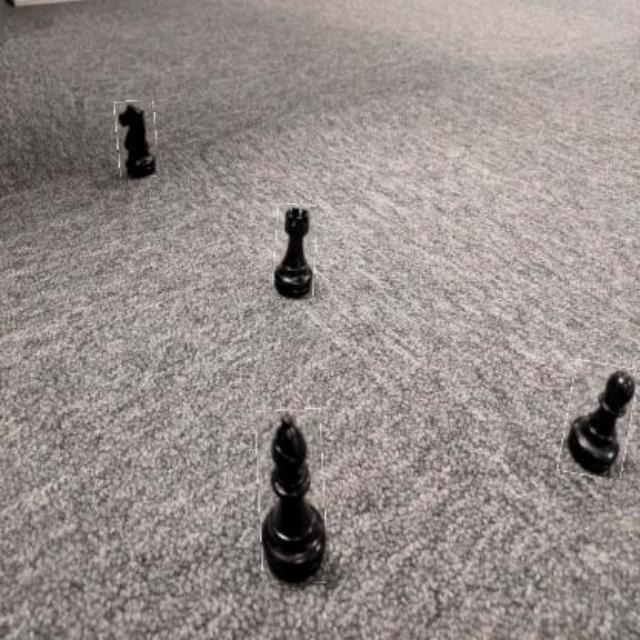black-bishop: (257, 408, 326, 583)
black-knight: (116, 101, 156, 179)
black-pawn: (562, 361, 634, 477)
black-rook: (274, 205, 316, 298)
